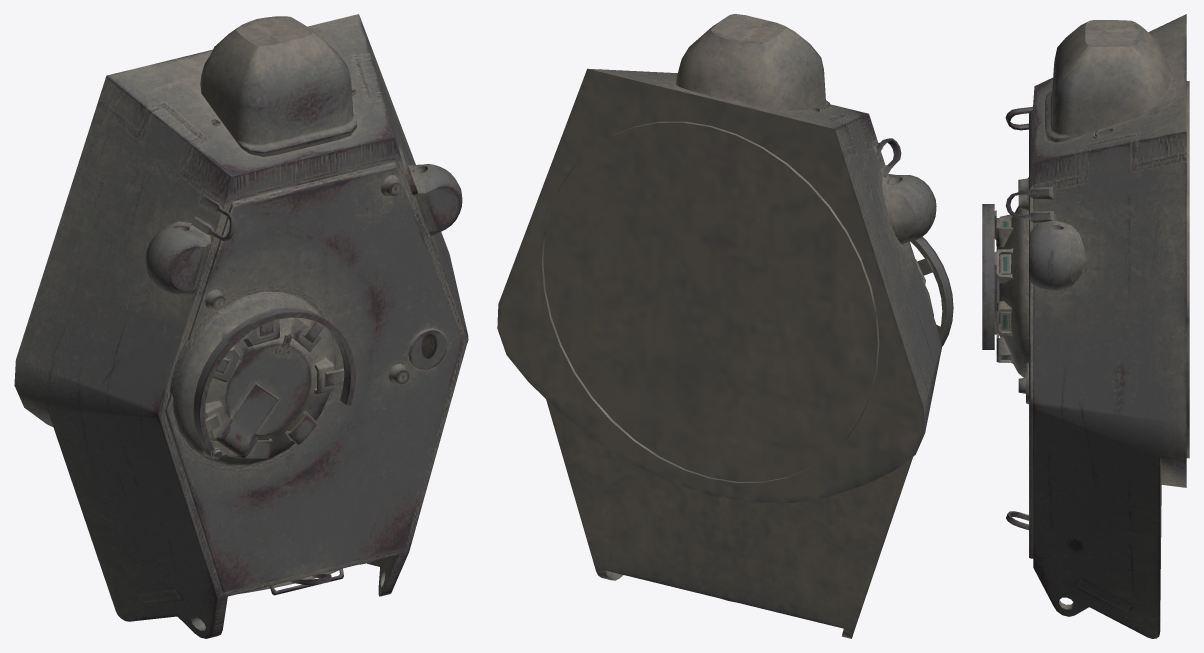
The model's file is Turret_01.glb.
3 renders of one model, left to right at view 1: azimuth 30°, elevation 25°; view 2: azimuth 150°, elevation 25°; view 3: azimuth 270°, elevation 25°, orthographic. The views are drawn at different scales.
Parts seen in each view (by area): view 1: set_0_group_0; view 2: set_0_group_0; view 3: set_0_group_0.
Boxes of the visible parts, x1=… form: set_0_group_0: x1=14, y1=14, x2=468, y2=638; set_0_group_0: x1=497, y1=14, x2=953, y2=638; set_0_group_0: x1=982, y1=14, x2=1189, y2=638.
Bounding box in the file's own units: 2.59 × 3.26 × 1.12.
1 material, 1 textured.
